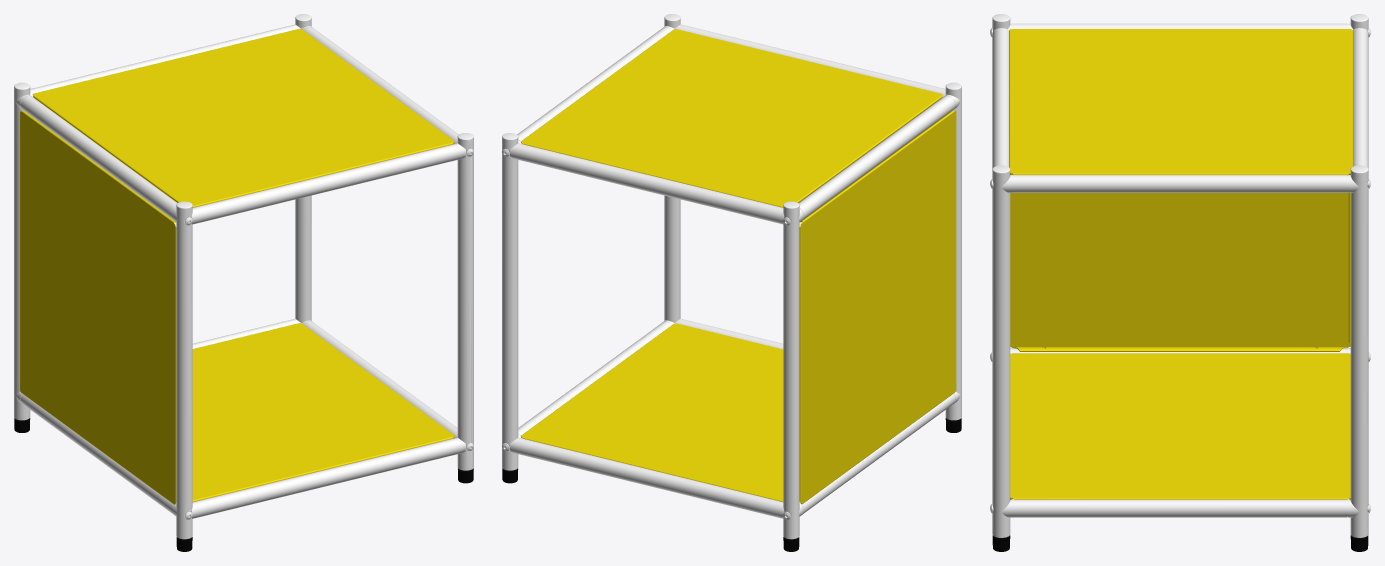
File: 40x40x40-2-2-yellow_optimized_optimized.glb
3 views of the same model, side by side, from view 1: azimuth 30°, elevation 25°; view 2: azimuth 150°, elevation 25°; view 3: azimuth 270°, elevation 25° (orthographic). The views are drawn at different scales.
Parts seen in each view (by area): view 1: 直角鐵板-40x40-5 - 零件, 反-鐵管-40-354..4-1 - 零件, 圓形腳+調整器-1 - 零件; view 2: 直角鐵板-40x40-5 - 零件, 反-鐵管-40-354..4-1 - 零件, 圓形腳+調整器-1 - 零件; view 3: 直角鐵板-40x40-5 - 零件, 反-鐵管-40-354..4-1 - 零件, 圓形腳+調整器-1 - 零件.
Part boxes in pixels (box(x1,y1,x2,y2)): 直角鐵板-40x40-5 - 零件: box(20, 28, 454, 504); 反-鐵管-40-354..4-1 - 零件: box(14, 14, 473, 539); 圓形腳+調整器-1 - 零件: box(14, 418, 473, 551); 直角鐵板-40x40-5 - 零件: box(521, 29, 956, 504); 反-鐵管-40-354..4-1 - 零件: box(502, 14, 961, 539); 圓形腳+調整器-1 - 零件: box(502, 418, 961, 551); 直角鐵板-40x40-5 - 零件: box(1009, 29, 1352, 499); 反-鐵管-40-354..4-1 - 零件: box(990, 14, 1370, 537); 圓形腳+調整器-1 - 零件: box(992, 535, 1368, 551).
Size of the model in its own units: 0.3992 by 0.4453 by 0.4035.
